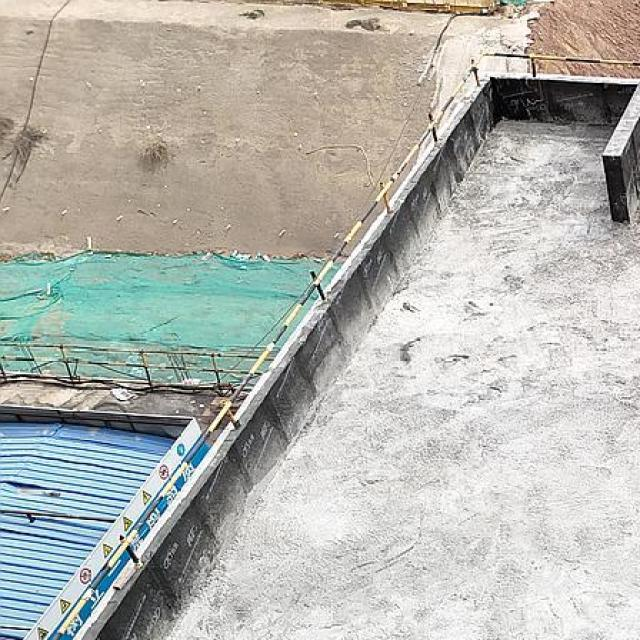edge_guardrail: (47, 51, 640, 640), (0, 341, 276, 395)
